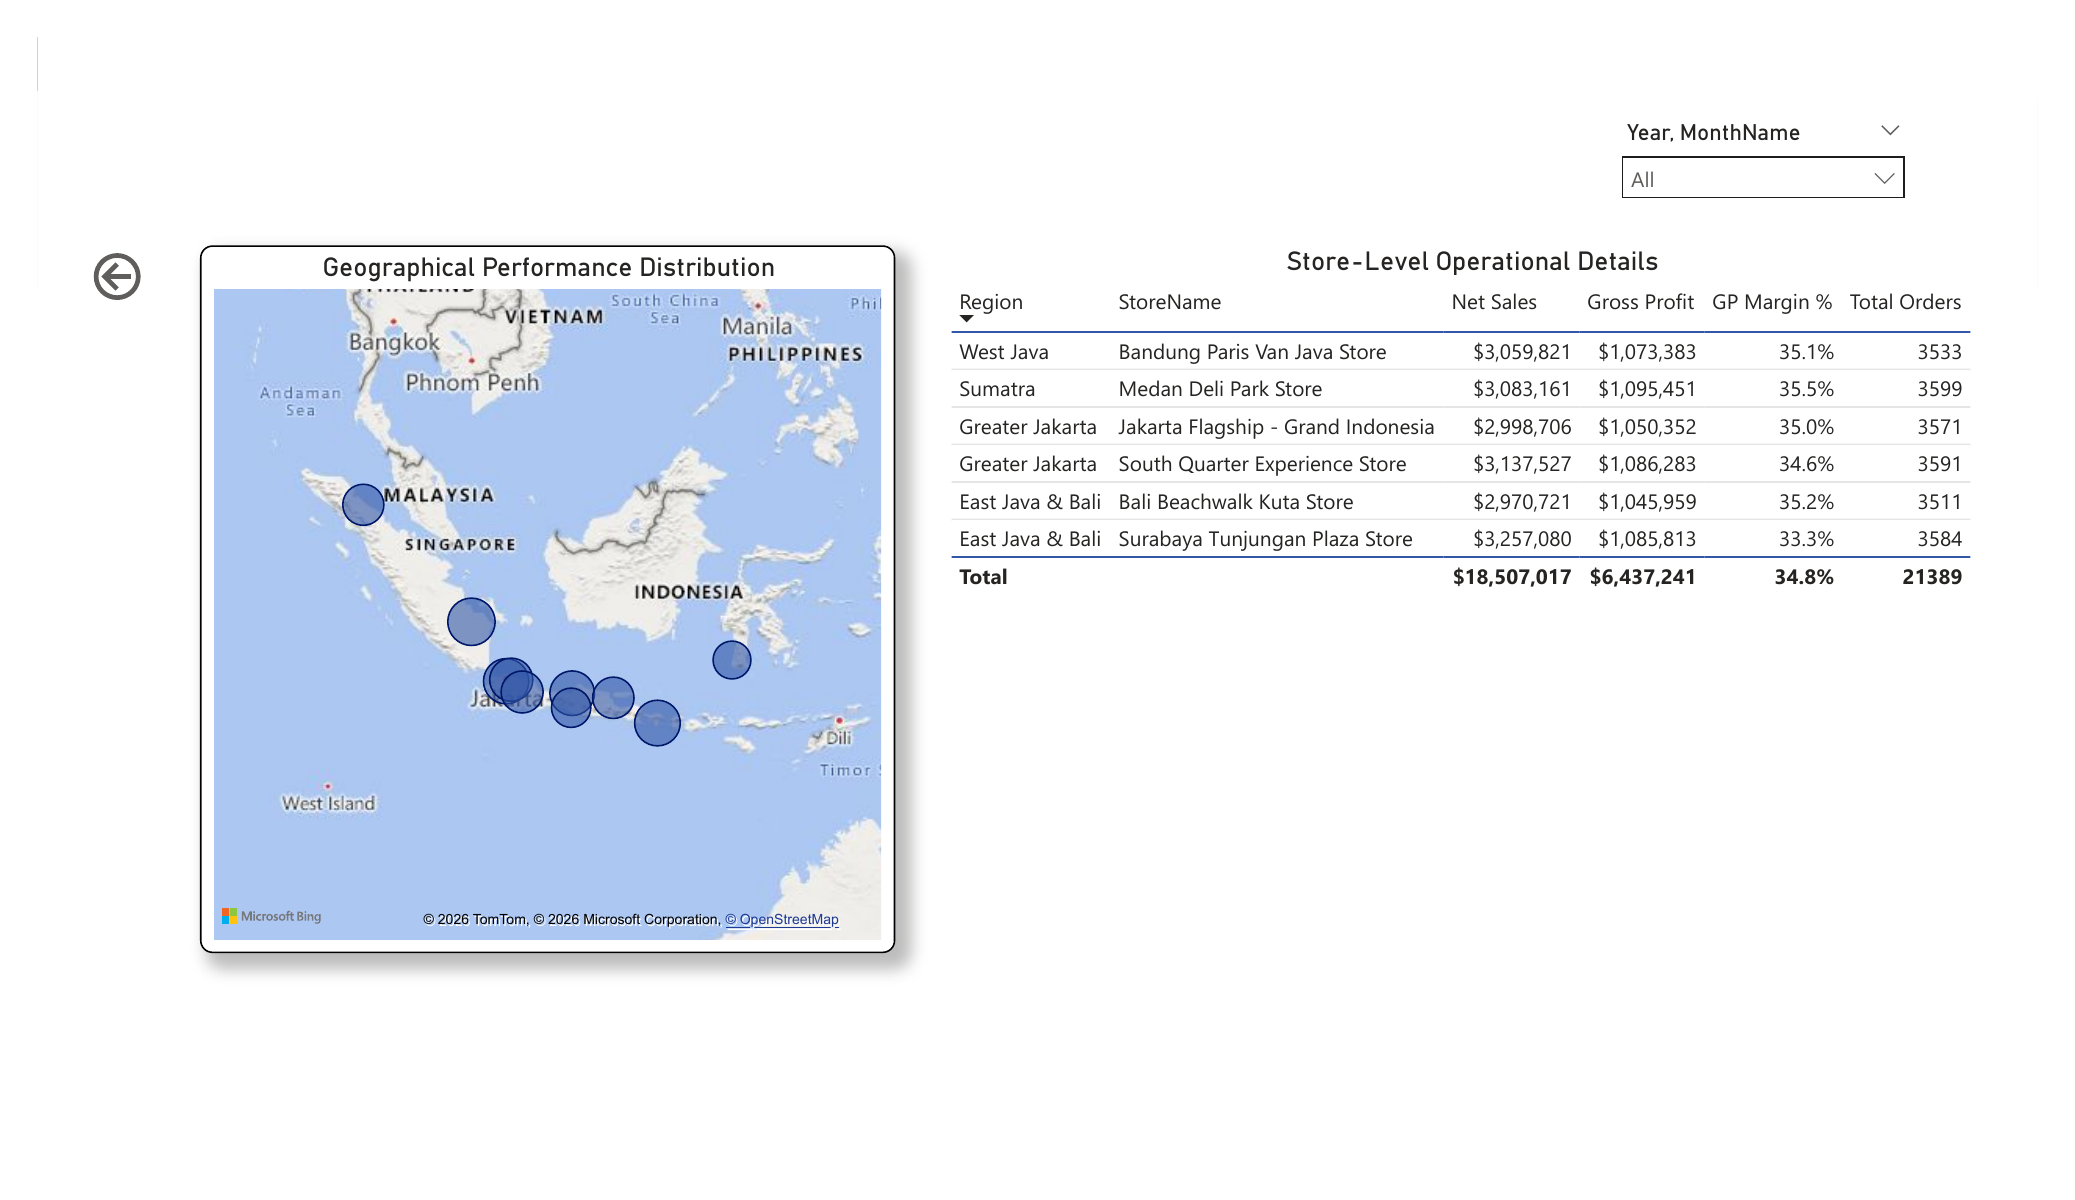

The dashboard page shown, as its layout file describes it:
{"tool":"powerbi","page":{"name":"Regional Operations","canvas":[1280,720],"ordinal":2},"visuals":[{"type":"tableEx","title":"Store-Level Operational Details","fields":{"Values":["Dim_Store_Region.Region","Dim_Store_Region.StoreName","_Measures.Net Sales","_Measures.Gross Profit","_Measures.GP Margin %","_Measures.Total Orders"]},"box":[578.8,132.5,678.8,453.8],"z":1000},{"type":"map","title":"Geographical Performance Distribution","fields":{"Category":["Dim_Customer.City"],"Size":["_Measures.Net Sales"]},"box":[103.8,132.5,445,453.8],"z":2000},{"type":"actionButton","box":[31.2,132.5,45,40],"z":3000},{"type":"slicer","fields":{"Values":["Dim_Date.Year","Dim_Date.MonthName"]},"box":[1003.8,47.5,201.2,61.2],"z":4000}]}

Visuals, with their boxes on the page's 1280x720 design canvas (x1, y1, x2, y2). These are canvas units, not pixel positions in the 2075x1200 screenshot, which may show the page scaled, cropped or inside an application window:
"Store-Level Operational Details" tableEx: bbox(579, 132, 1258, 586)
"Geographical Performance Distribution" map: bbox(104, 132, 549, 586)
actionButton: bbox(31, 132, 76, 172)
slicer - Dim_Date.Year x Dim_Date.MonthName: bbox(1004, 48, 1205, 109)
